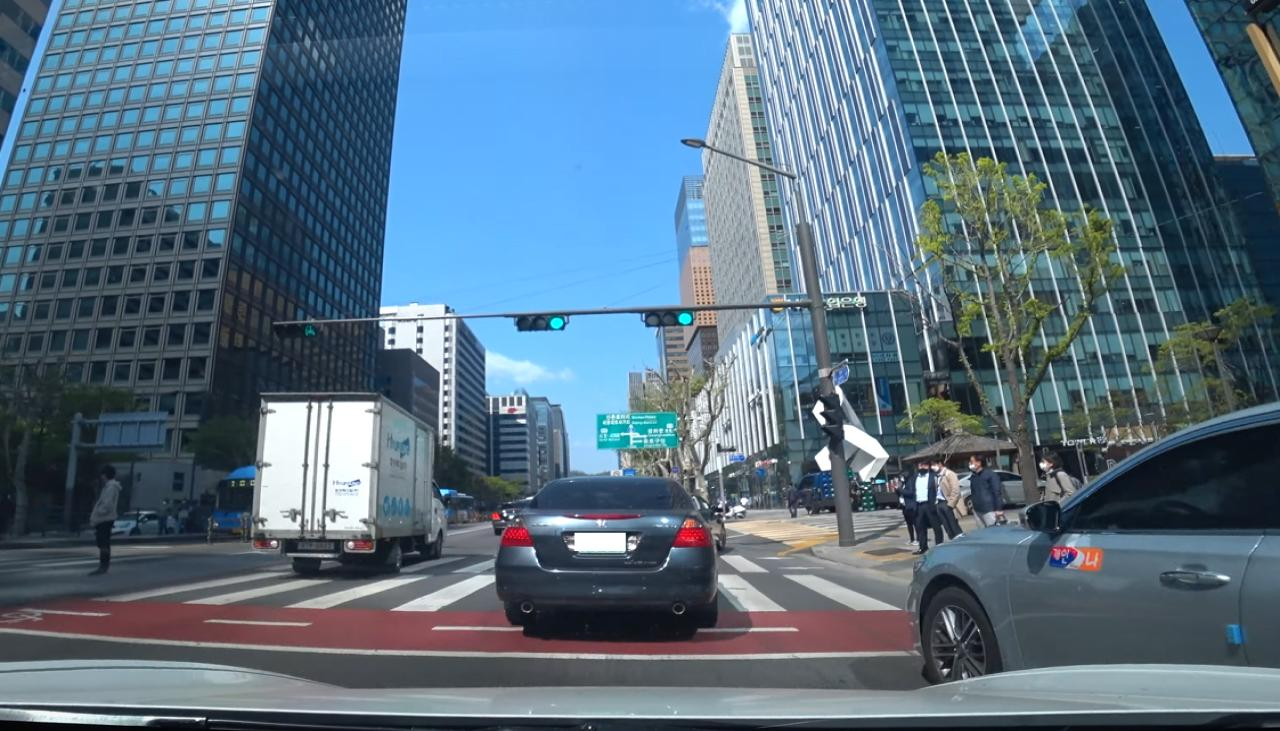Green Light: (677, 311, 694, 326), (549, 316, 564, 330)
